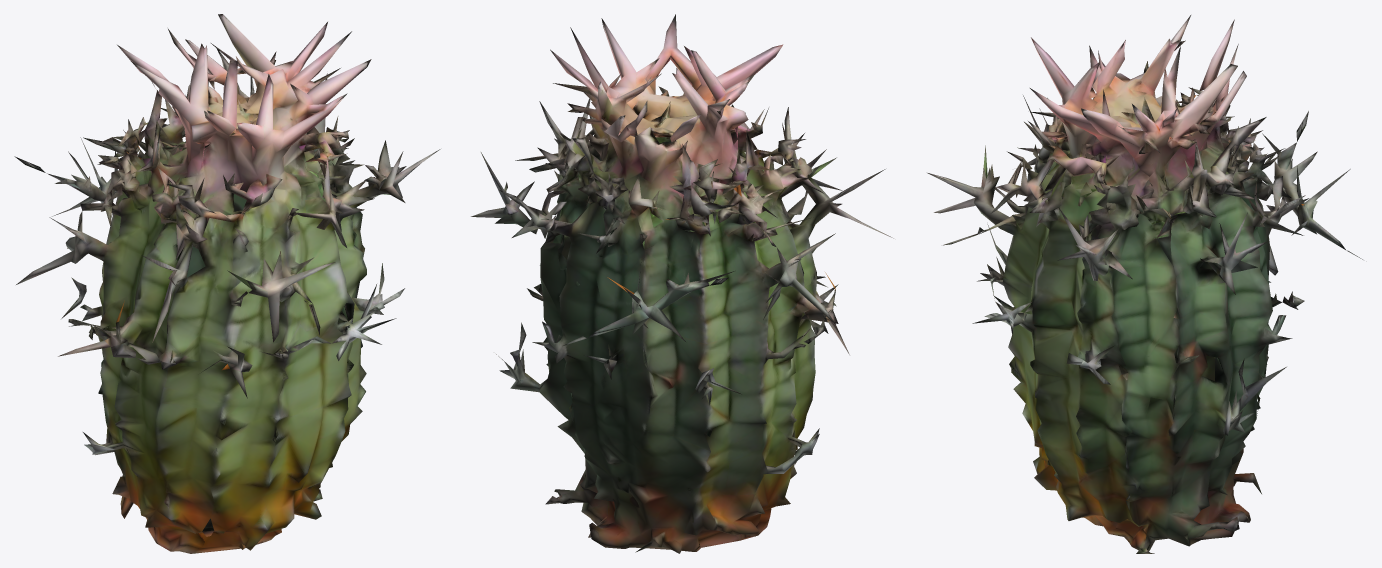
Rendered from Euphorbiaceae.glb.
3 views of the same model, side by side, from view 1: azimuth 30°, elevation 25°; view 2: azimuth 150°, elevation 25°; view 3: azimuth 270°, elevation 25° (orthographic).
Bounding box in the file's own units: 1.62 × 2 × 1.7.
1 material, 1 textured.
